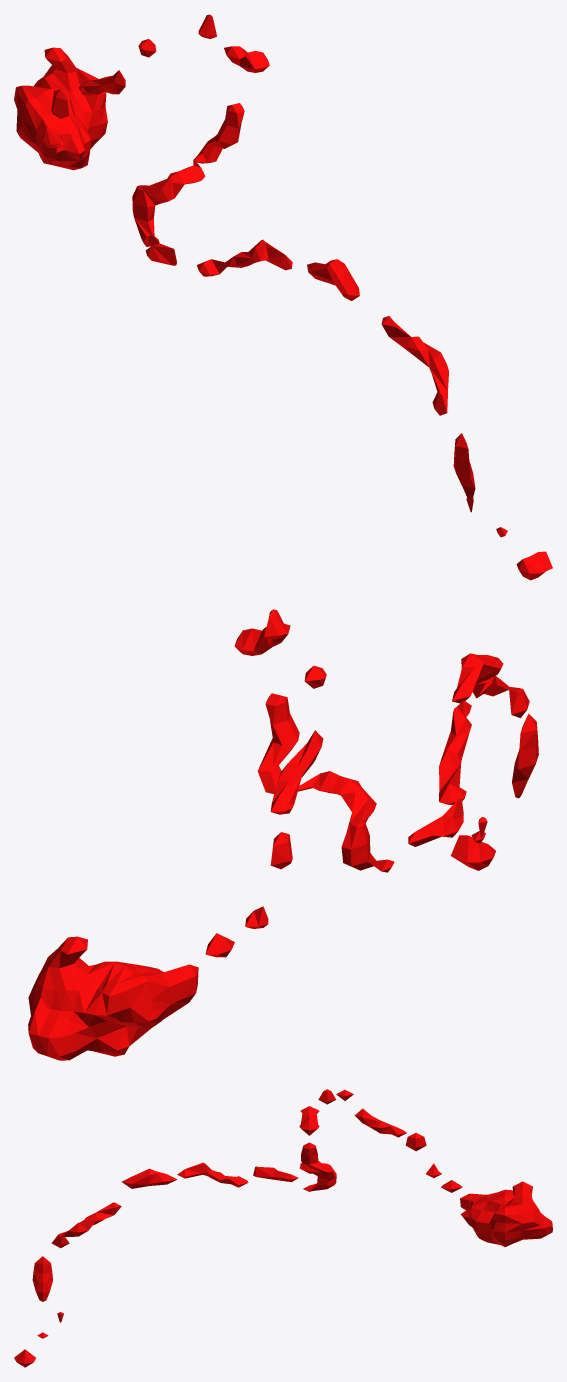
File: mutL_coarse.dae
3 views of the same model, one above another, from view 1: azimuth 30°, elevation 25°; view 2: azimuth 150°, elevation 25°; view 3: azimuth 270°, elevation 25° (orthographic). The views are drawn at different scales.
Parts seen in each view (by area): view 1: mutL; view 2: mutL; view 3: mutL.
Part boxes in pixels (x1,y1,x2,y2): mutL: (14,14,552,580); mutL: (28,609,538,1060); mutL: (14,1089,552,1367).
Bounding box in the file's own units: 124 × 237 × 456.
